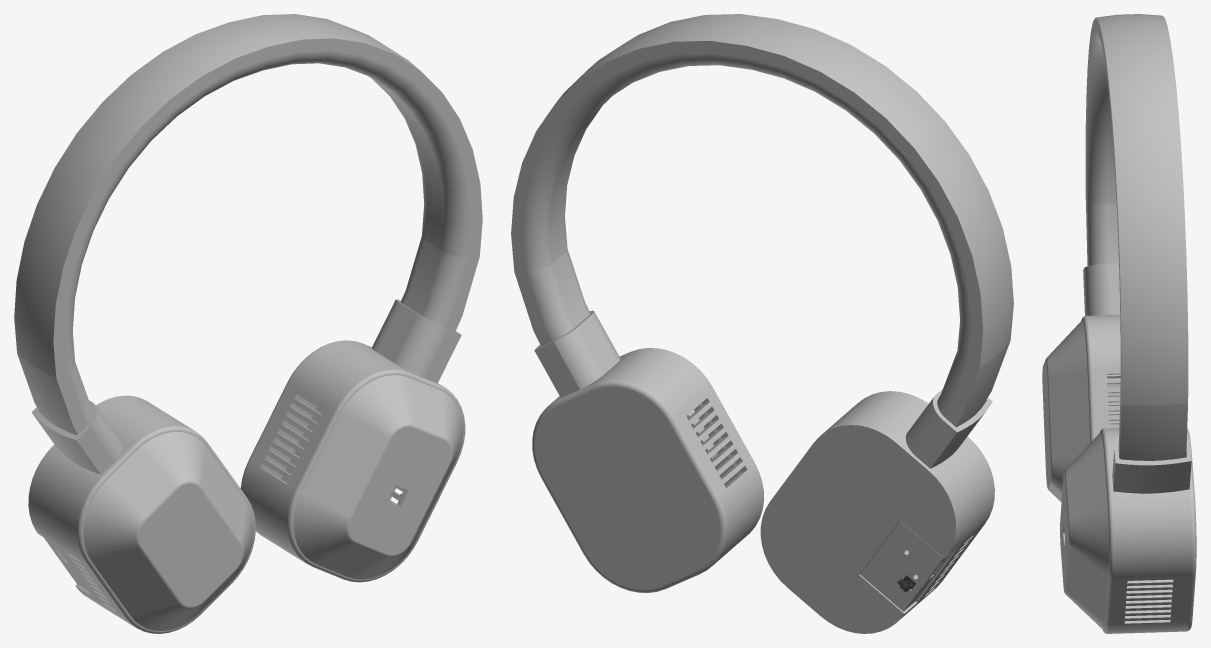
The model's file is V2gris.glb.
3 views of the same model, side by side, from view 1: azimuth 30°, elevation 25°; view 2: azimuth 150°, elevation 25°; view 3: azimuth 270°, elevation 25° (orthographic). The views are drawn at different scales.
Visible parts, largest first — view 1: 6911e77e681b292943809632, 6911e77e681b292943809632.007, 6911e77e681b292943809632.006, 6911e77e681b292943809632.005, 6911e77e681b292943809632.001; view 2: 6911e77e681b292943809632, 6911e77e681b292943809632.005, 6911e77e681b292943809632.001, 6911e77e681b292943809632.007, 6911e77e681b292943809632.003, 6911e77e681b292943809632.006; view 3: 6911e77e681b292943809632, 6911e77e681b292943809632.007, 6911e77e681b292943809632.006, 6911e77e681b292943809632.005.
Part boxes in pixels (bbox=[...]): 6911e77e681b292943809632: bbox=[14, 14, 482, 435]; 6911e77e681b292943809632.007: bbox=[265, 310, 465, 582]; 6911e77e681b292943809632.006: bbox=[53, 400, 255, 633]; 6911e77e681b292943809632.005: bbox=[240, 299, 412, 548]; 6911e77e681b292943809632.001: bbox=[28, 395, 171, 613]; 6911e77e681b292943809632: bbox=[511, 14, 1013, 427]; 6911e77e681b292943809632.005: bbox=[532, 320, 746, 592]; 6911e77e681b292943809632.001: bbox=[760, 389, 979, 633]; 6911e77e681b292943809632.007: bbox=[583, 310, 763, 547]; 6911e77e681b292943809632.003: bbox=[860, 521, 943, 611]; 6911e77e681b292943809632.006: bbox=[841, 391, 994, 602]; 6911e77e681b292943809632: bbox=[1085, 14, 1188, 460]; 6911e77e681b292943809632.007: bbox=[1060, 428, 1150, 633]; 6911e77e681b292943809632.006: bbox=[1042, 263, 1120, 501]; 6911e77e681b292943809632.005: bbox=[1145, 428, 1196, 632].
Bounding box in the file's own units: 0.2403 × 0.2843 × 0.0737.
2 materials, 1 textured.
